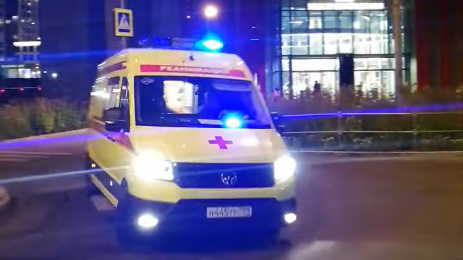intensive care unit: (82, 45, 302, 250)
